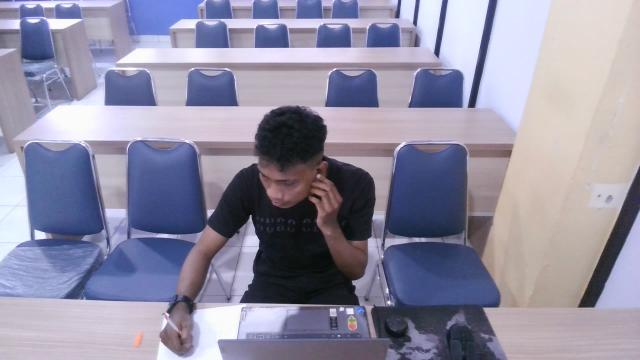Earpiece: (312, 160, 339, 195)
Normal_Writing: (152, 93, 398, 360)
